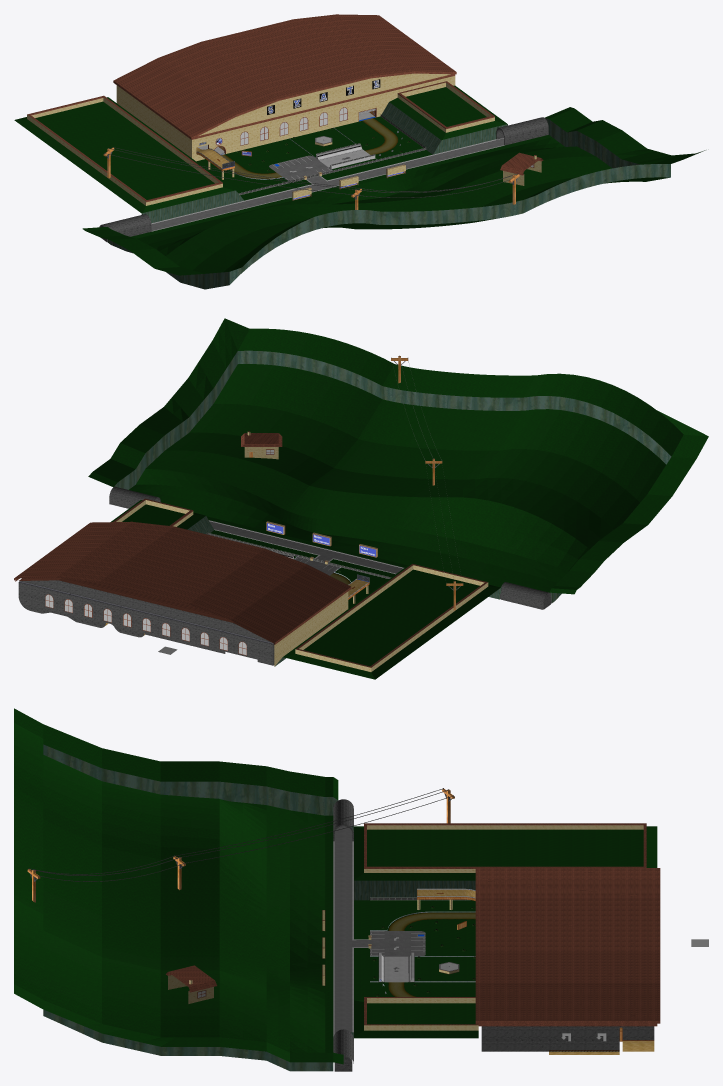
The picture shows the model from 3 angles, top to bottom: view 1: azimuth 30°, elevation 25°; view 2: azimuth 150°, elevation 25°; view 3: azimuth 270°, elevation 25°; orthographic projection. The views are drawn at different scales.
Visible parts, largest first — view 1: FLOOR___grass1, course-SKP--OutsideWall2___OutsideWall2, course-SKP--Grasswall1___Grasswall1, course-SKP--OutsideWallsHADOW___OutsideWall, course-SKP--OutsideWall___OutsideWall, course-SKP--InsideWalls___InsideWalls, course-SKP--Floor2___Floor2, course-SKP--Floor1___Floor1, FLOOR.002___Road1, FLOOR.001___Floor3, course-SKP--Fence2___Fence2, course-SKP--Glass___Glass (+1 smaller); view 2: FLOOR___grass1, course-SKP--OutsideWall2___OutsideWall2, course-SKP--InsideWalls___InsideWalls, course-SKP--Grasswall1___Grasswall1, course-SKP--OutsideWall___OutsideWall, course-SKP--Floor2___Floor2, course-SKP--OutsideWallsHADOW___OutsideWall, course-SKP--Glass___Glass, course-SKP--Floor1___Floor1, course-SKP--Metal1___Metal1; view 3: FLOOR___grass1, course-SKP--OutsideWall2___OutsideWall2, course-SKP--Grasswall1___Grasswall1, course-SKP--InsideWalls___InsideWalls, course-SKP--Floor2___Floor2, course-SKP--OutsideWall___OutsideWall, course-SKP--Floor1___Floor1, FLOOR.001___Floor3, course-SKP--Skate1___Skate1, FLOOR.002___Road1, course-SKP--Skate3___Skate3, course-SKP--OutsideWallsHADOW___OutsideWall.
Boxes of the visible parts, box(x1,y1,x2,y2) form: FLOOR___grass1: box(14, 85, 705, 275); course-SKP--OutsideWall2___OutsideWall2: box(27, 14, 543, 202); course-SKP--Grasswall1___Grasswall1: box(107, 102, 670, 289); course-SKP--OutsideWallsHADOW___OutsideWall: box(116, 73, 536, 179); course-SKP--OutsideWall___OutsideWall: box(27, 82, 541, 205); course-SKP--InsideWalls___InsideWalls: box(99, 117, 548, 241); course-SKP--Floor2___Floor2: box(151, 108, 504, 230); course-SKP--Floor1___Floor1: box(107, 109, 504, 242); FLOOR.002___Road1: box(221, 118, 398, 178); FLOOR.001___Floor3: box(269, 155, 332, 180); course-SKP--Fence2___Fence2: box(238, 114, 426, 195); course-SKP--Glass___Glass: box(240, 107, 533, 167); FLOOR___grass1: box(88, 318, 708, 679); course-SKP--OutsideWall2___OutsideWall2: box(14, 431, 487, 667); course-SKP--InsideWalls___InsideWalls: box(18, 358, 551, 665); course-SKP--Grasswall1___Grasswall1: box(114, 350, 671, 666); course-SKP--OutsideWall___OutsideWall: box(116, 432, 488, 671); course-SKP--Floor2___Floor2: box(209, 521, 403, 573); course-SKP--OutsideWallsHADOW___OutsideWall: box(247, 434, 368, 666); course-SKP--Glass___Glass: box(45, 450, 273, 655); course-SKP--Floor1___Floor1: box(209, 520, 543, 609); course-SKP--Metal1___Metal1: box(19, 355, 463, 644); FLOOR___grass1: box(14, 708, 657, 1064); course-SKP--OutsideWall2___OutsideWall2: box(166, 823, 660, 1026); course-SKP--Grasswall1___Grasswall1: box(43, 744, 475, 1071); course-SKP--InsideWalls___InsideWalls: box(29, 788, 654, 1071); course-SKP--Floor2___Floor2: box(334, 826, 459, 1033); course-SKP--OutsideWall___OutsideWall: box(168, 825, 643, 1003); course-SKP--Floor1___Floor1: box(333, 841, 457, 1036); FLOOR.001___Floor3: box(370, 931, 425, 956); course-SKP--Skate1___Skate1: box(417, 889, 654, 1054); FLOOR.002___Road1: box(387, 912, 475, 996); course-SKP--Skate3___Skate3: box(27, 789, 622, 1041); course-SKP--OutsideWallsHADOW___OutsideWall: box(189, 899, 478, 1030).
Bounding box in the file's own units: 114994 × 25160 × 118352.
39 materials, 34 textured.
